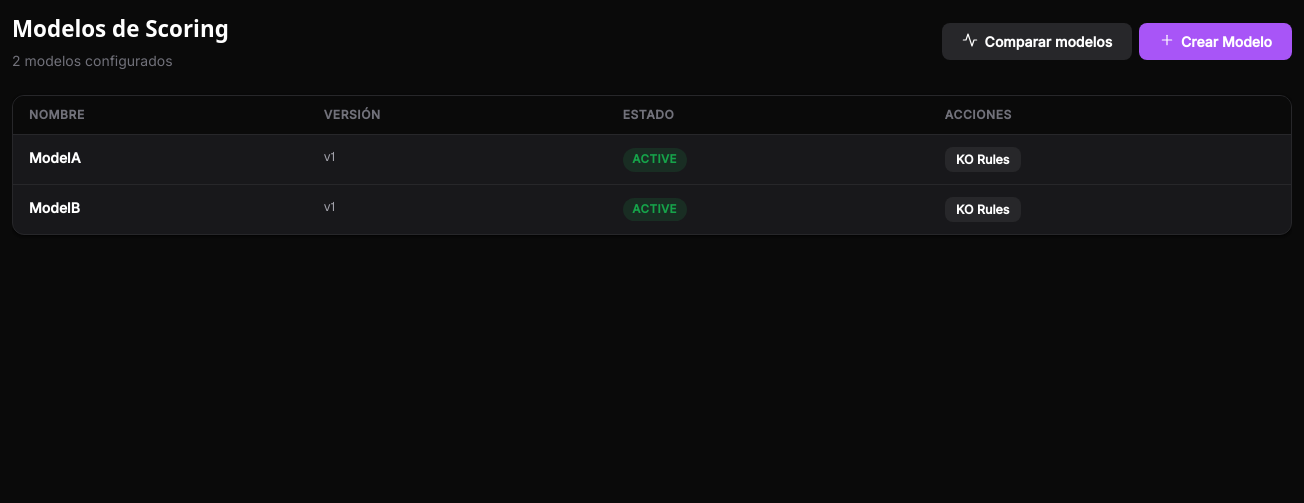
ScoringModels — Compare panel › shows compare error when no models selected
expect the text "ModelA" is shown: met, box [29, 149, 81, 166]
Click the button "Comparar modelos". click: (1037, 41)
box: [942, 23, 1132, 60]
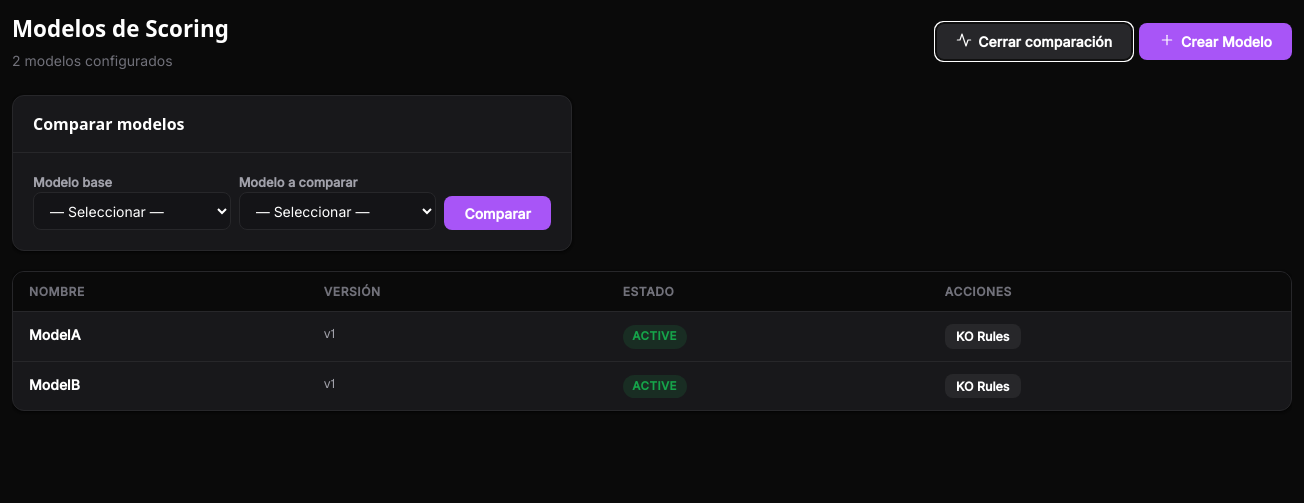
Click the button "Comparar". click: (498, 213)
box: [444, 196, 551, 230]
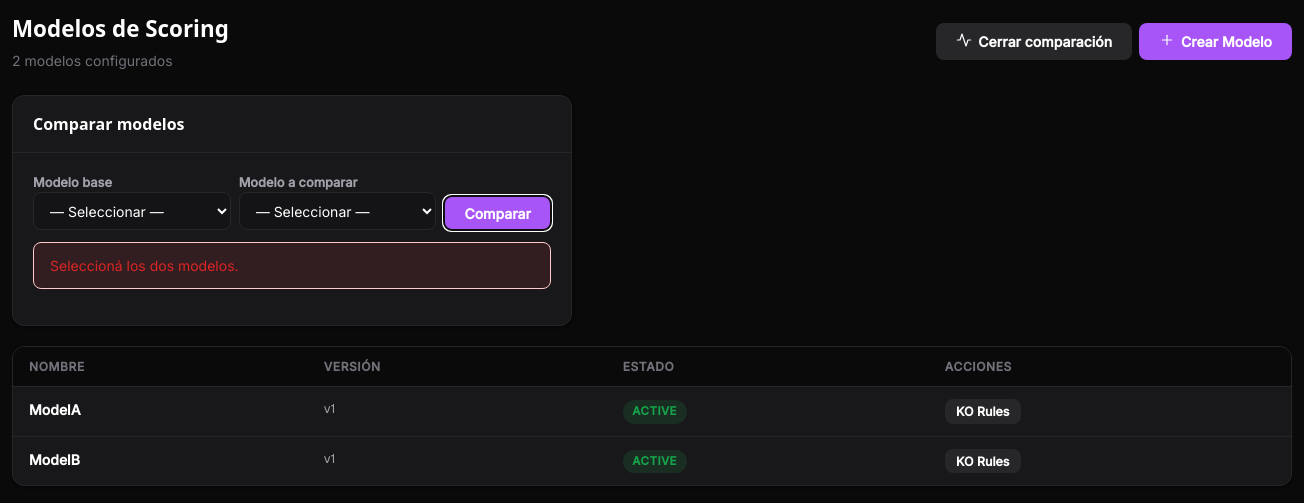
expect the text "Seleccioná los dos modelos." is shown: met, box [33, 242, 551, 289]
